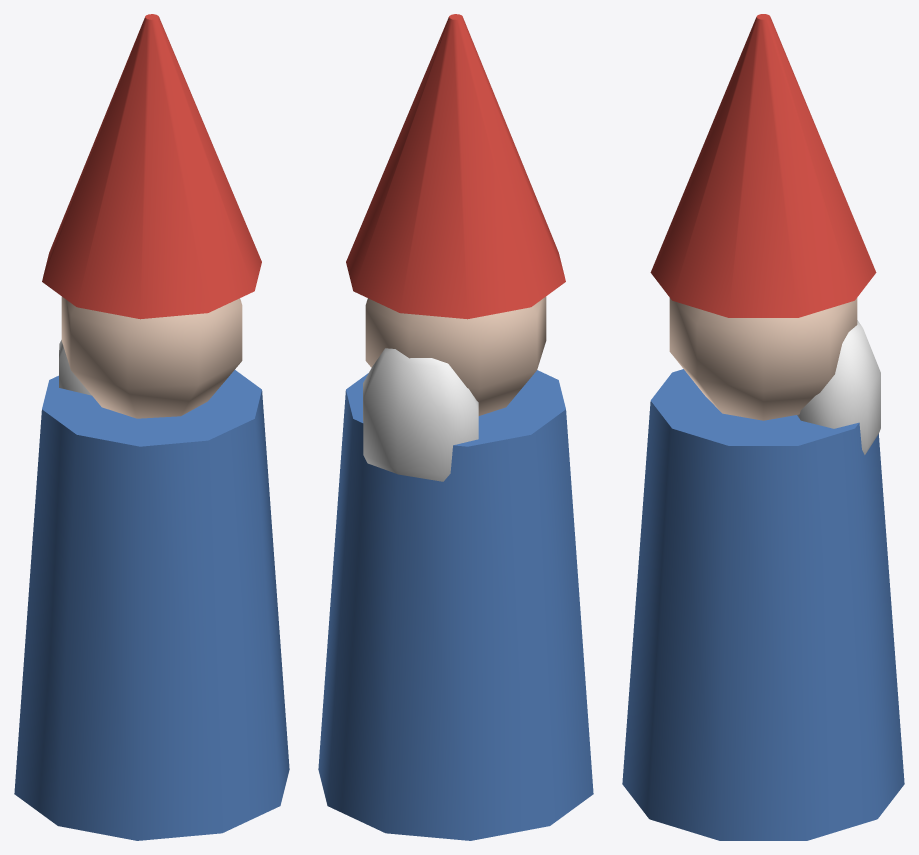
Rendered from garden_gnome.glb.
The picture shows the model from 3 angles, left to right: view 1: azimuth 30°, elevation 25°; view 2: azimuth 150°, elevation 25°; view 3: azimuth 270°, elevation 25°; orthographic projection.
Visible parts, largest first — view 1: garden_gnome; view 2: garden_gnome; view 3: garden_gnome.
Boxes of the visible parts, x1,y1,x2,y2 form: garden_gnome: [14, 14, 289, 840]; garden_gnome: [318, 14, 593, 840]; garden_gnome: [622, 14, 904, 840].
Bounding box in the file's own units: 0.1902 × 0.6 × 0.2.
